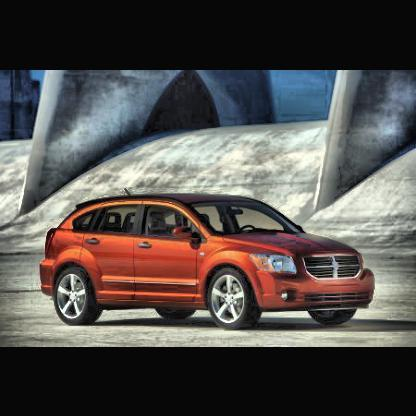Dodge Caliber Wagon 2007: (40, 188, 378, 332)
